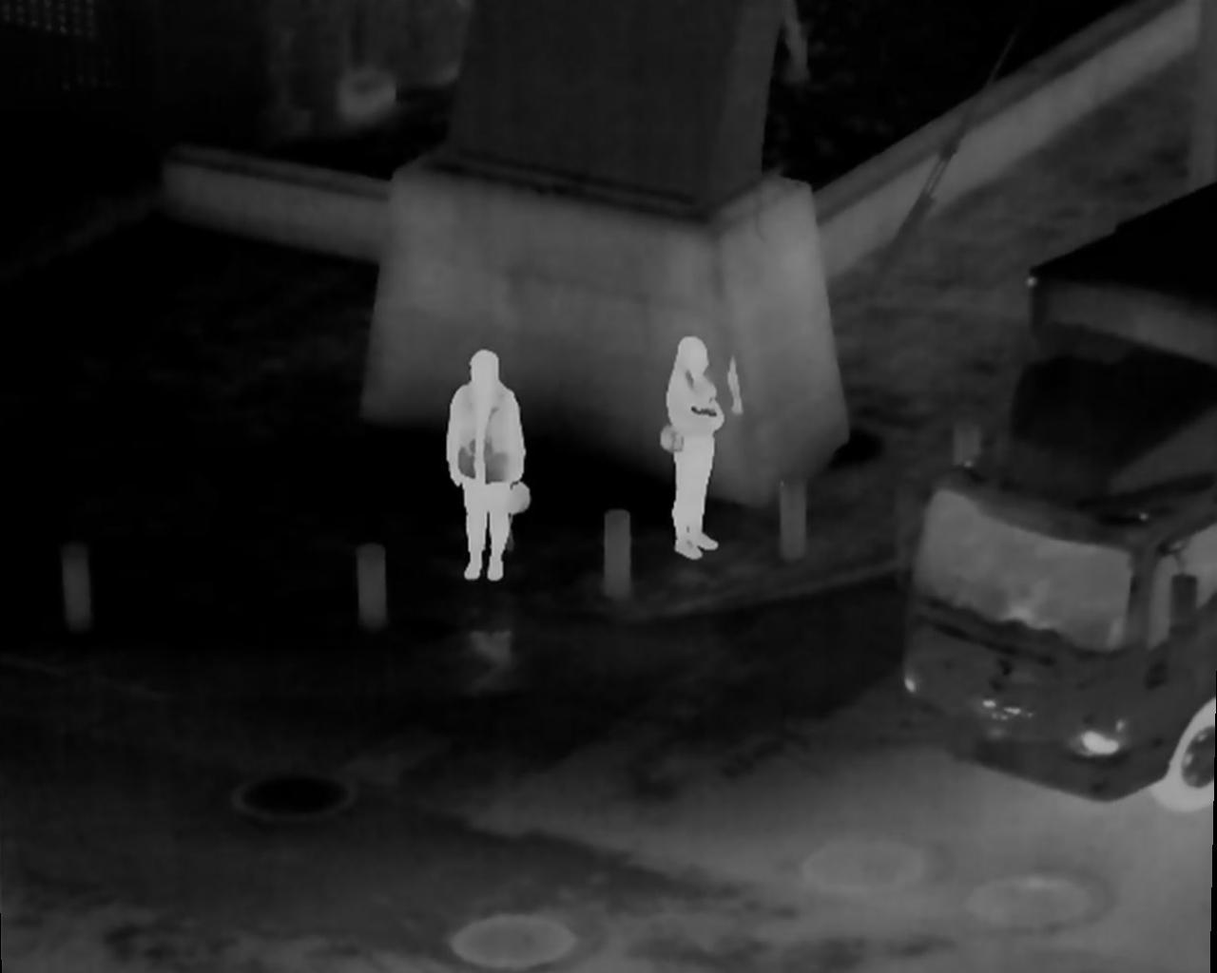person: (444, 351, 531, 588), (655, 337, 729, 558)
